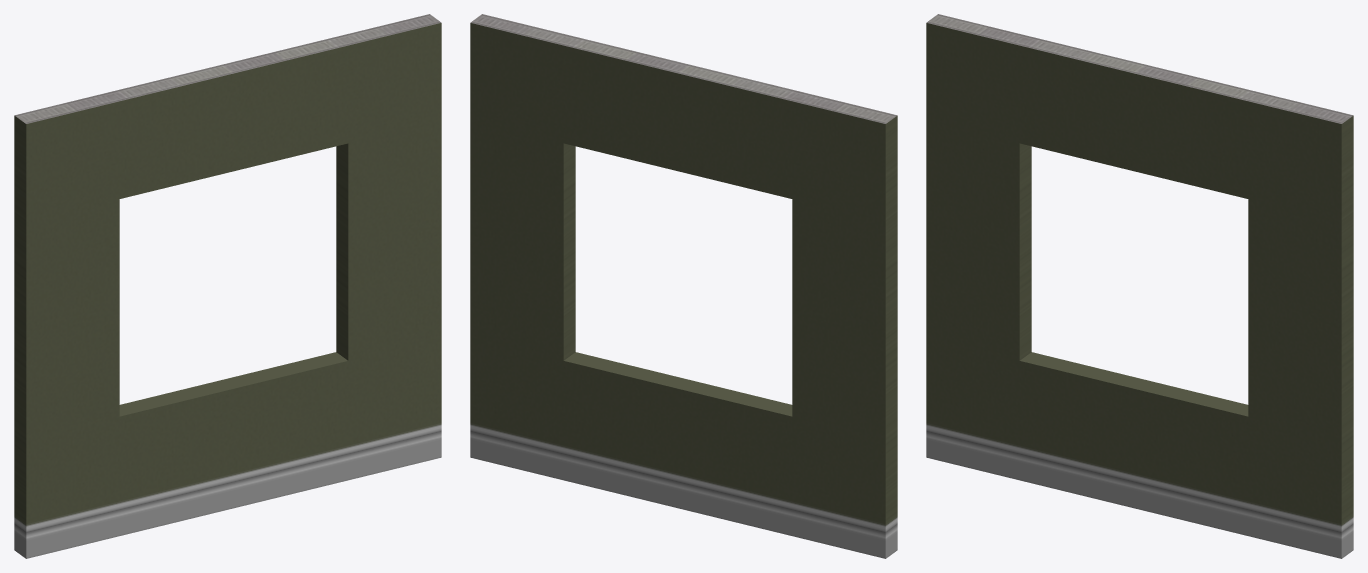
Rendered from wall2_8.fbx.
3 renders of one model, left to right at view 1: azimuth 30°, elevation 25°; view 2: azimuth 150°, elevation 25°; view 3: azimuth 330°, elevation 25°, orthographic.
Parts seen in each view (by area): view 1: wall2_green_h; view 2: wall2_green_h; view 3: wall2_green_h.
Boxes of the visible parts, box(x1,y1,x2,y2) form: wall2_green_h: box(14, 14, 441, 558); wall2_green_h: box(470, 14, 897, 558); wall2_green_h: box(926, 14, 1353, 558).
Bounding box in the file's own units: 400 × 400 × 20.
